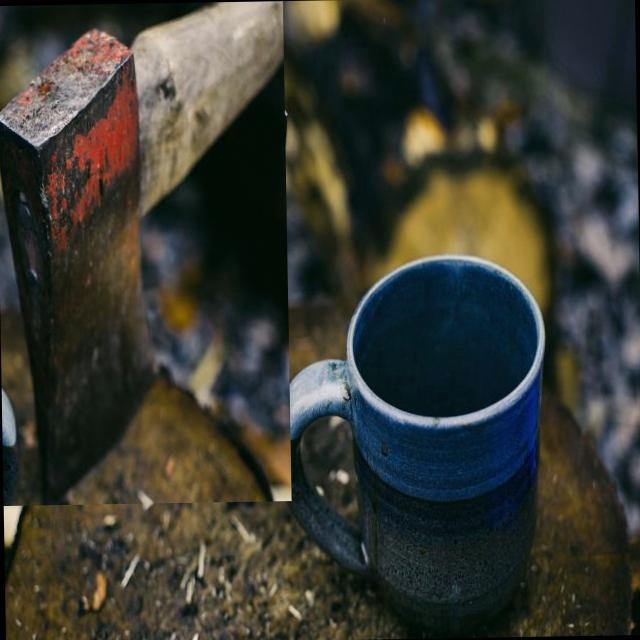Axe: (0, 1, 283, 505)
